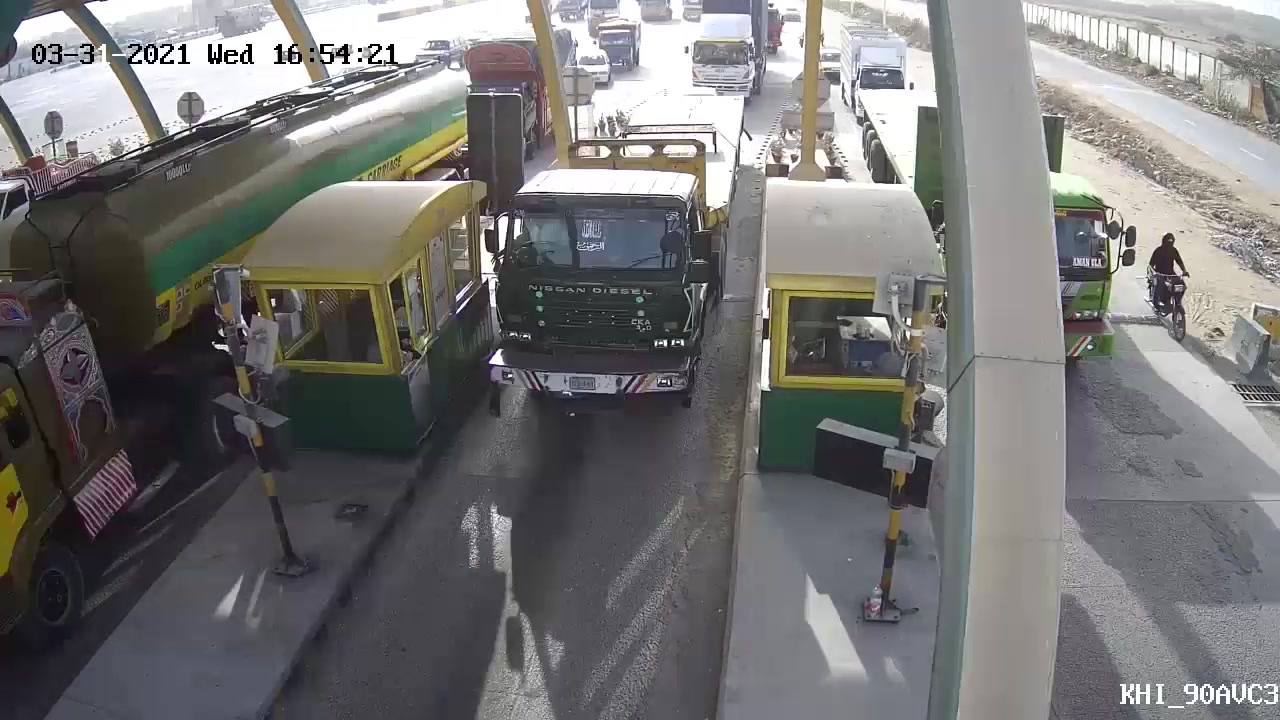F6: (489, 80, 751, 414)
